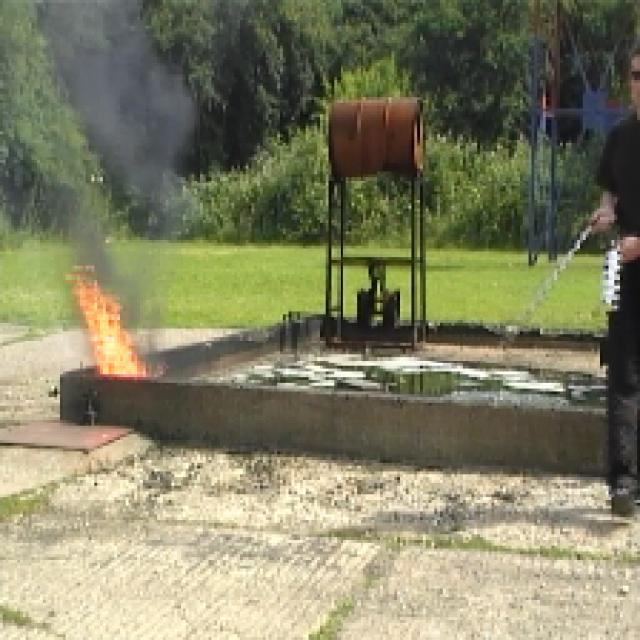fire: (70, 278, 132, 386)
smoke: (68, 40, 172, 144)
